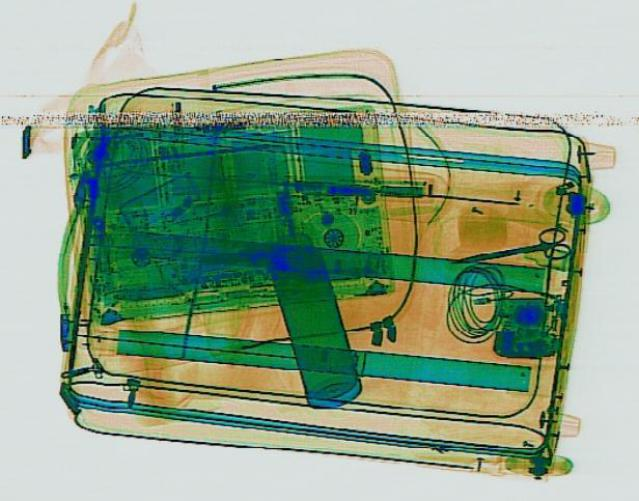Scissors: (446, 223, 575, 276)
